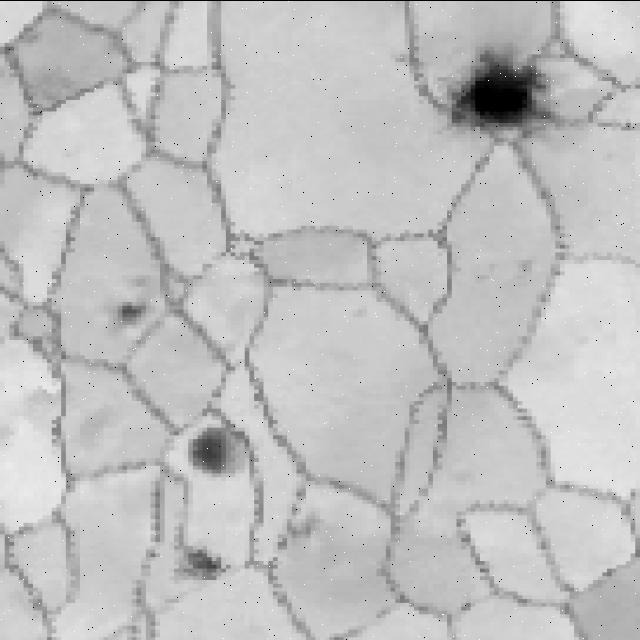good_void: (448, 52, 558, 132), (182, 418, 252, 489), (275, 508, 330, 547), (181, 548, 227, 578), (116, 297, 154, 324), (507, 256, 541, 282), (389, 48, 409, 70)
